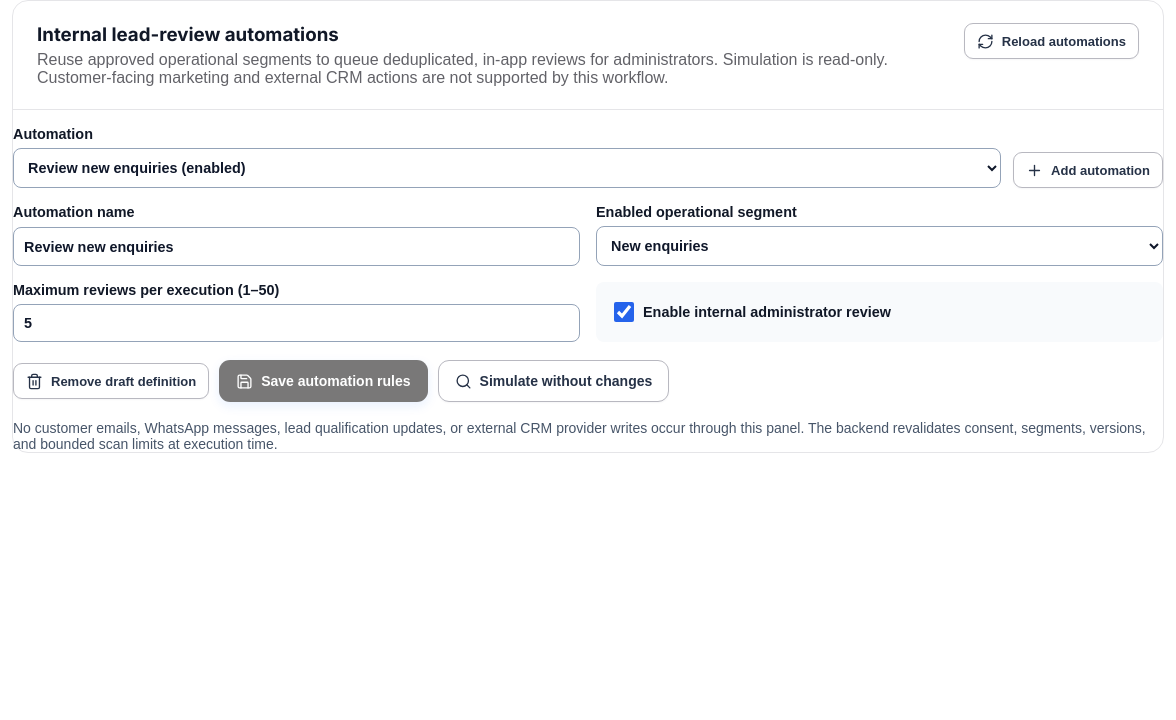
Test case: Internal Lead automations inside existing CRM Workflow › blocks execution of truncated simulations even with matching segments
Click the button "Simulate without changes" at (553, 381), box [438,360,669,402]
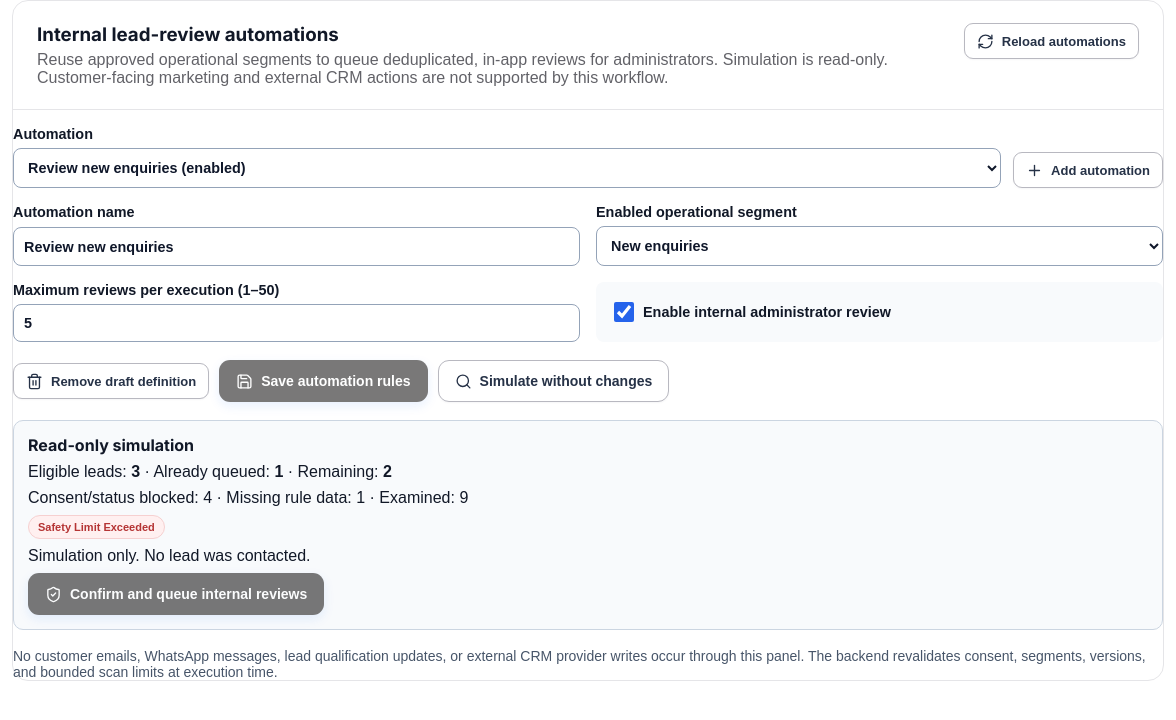
Expected: the text "Safety limit exceeded" is shown, [28,515,165,539]
Expected: the button "Confirm and queue internal reviews" is disabled, [28,573,324,615]
